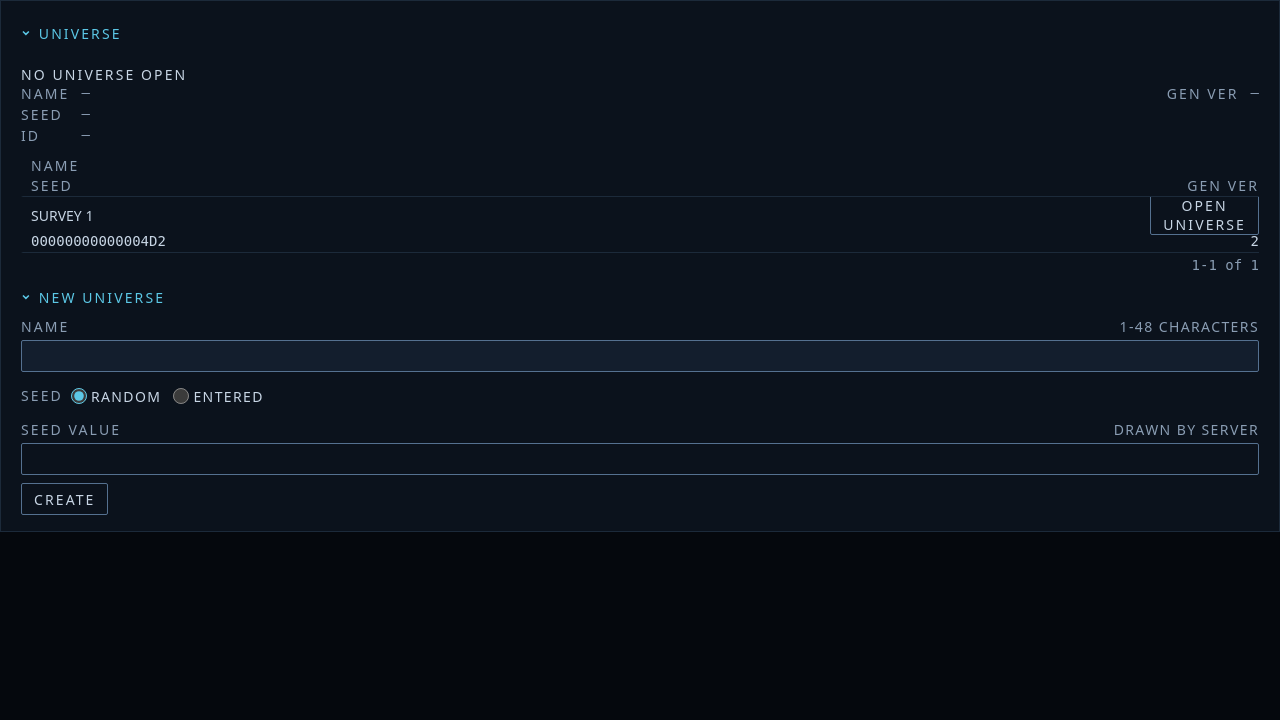
Test: UniversePanel › the NEW UNIVERSE form › is shown while no universe is open, and folded once one is
Expected: the field labelled "NAME" is shown, x1=21 y1=340 x2=1259 y2=372
Click the button with aria-label "Open universe SURVEY 1" at (1205, 215), box x1=1150 y1=195 x2=1259 y2=235
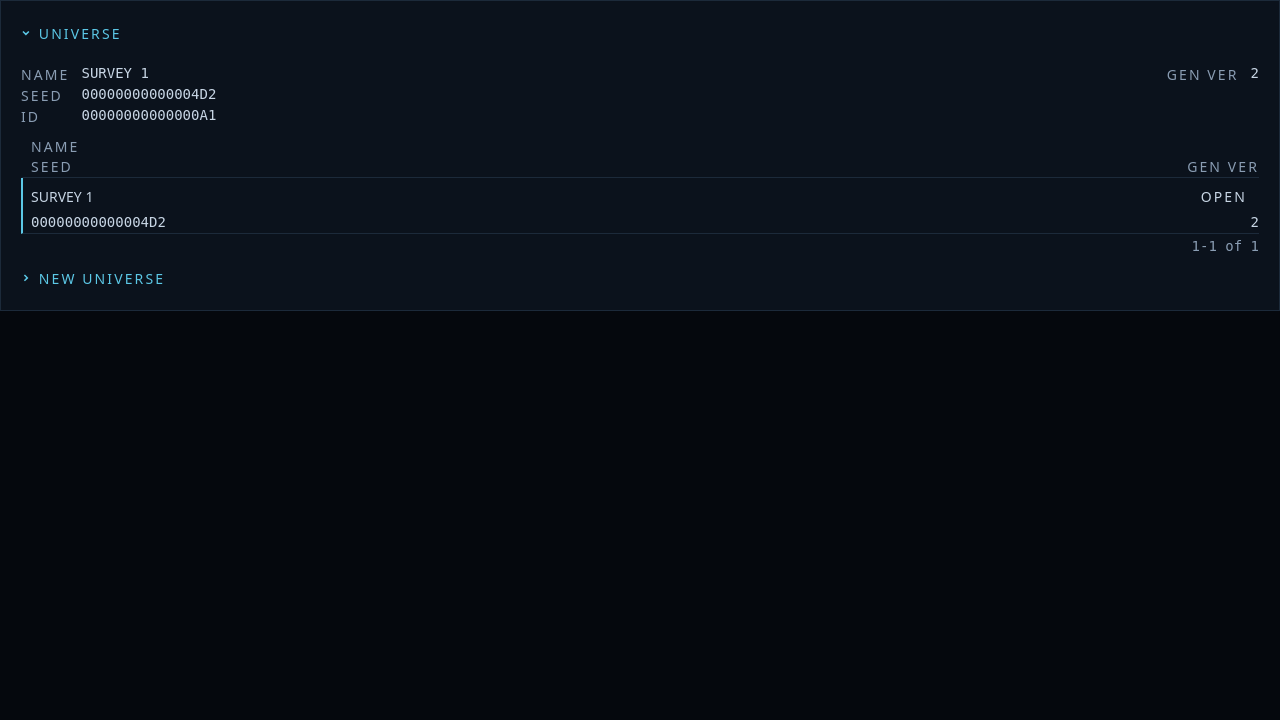
Now the button "NEW UNIVERSE" is collapsed, box x1=21 y1=262 x2=173 y2=294
Now the button "CREATE" is gone
